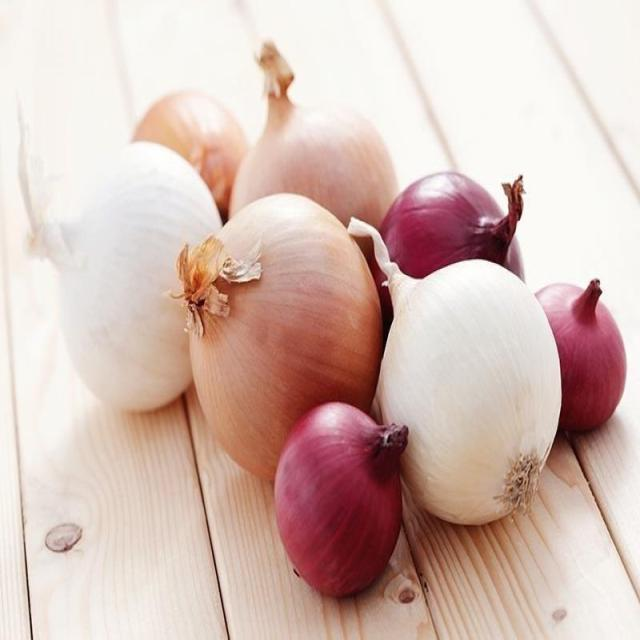Onion: (347, 215, 563, 527), (168, 191, 386, 486), (22, 142, 224, 412), (228, 38, 399, 260), (273, 402, 411, 598), (396, 166, 527, 286), (133, 89, 249, 223), (533, 275, 627, 431)
